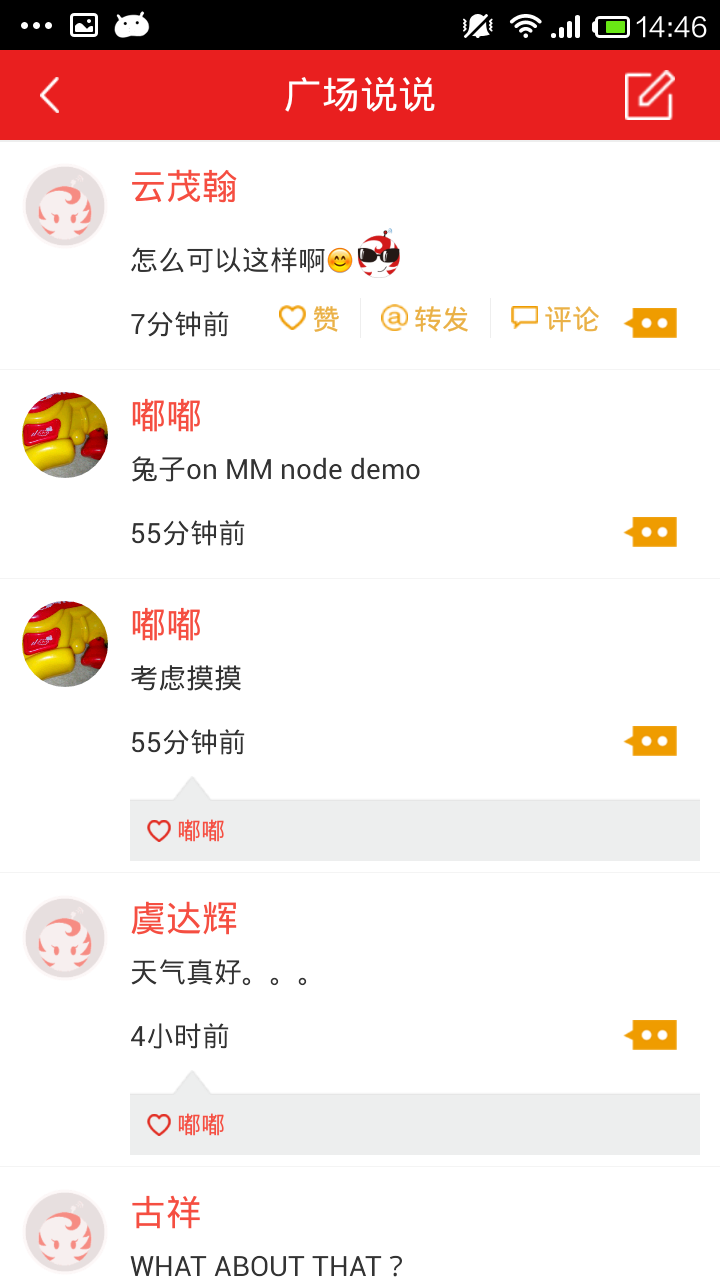imgbutton: (617, 713, 686, 769)
